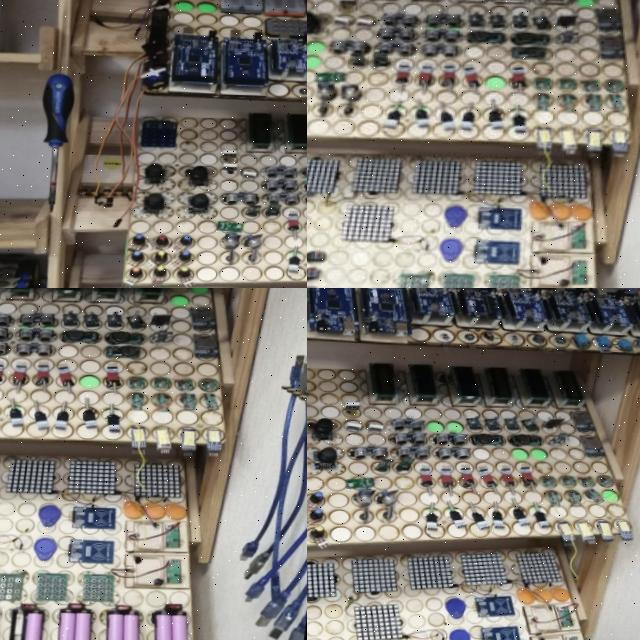Green-circles: (307, 37, 333, 70), (171, 0, 223, 15), (513, 442, 552, 461), (486, 72, 512, 96), (433, 419, 470, 433), (81, 373, 107, 390), (577, 0, 621, 9), (173, 288, 213, 296), (174, 294, 194, 307), (606, 492, 629, 500)
